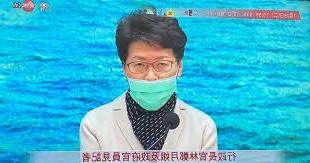mask_weared_incorrect: (125, 53, 174, 98)
